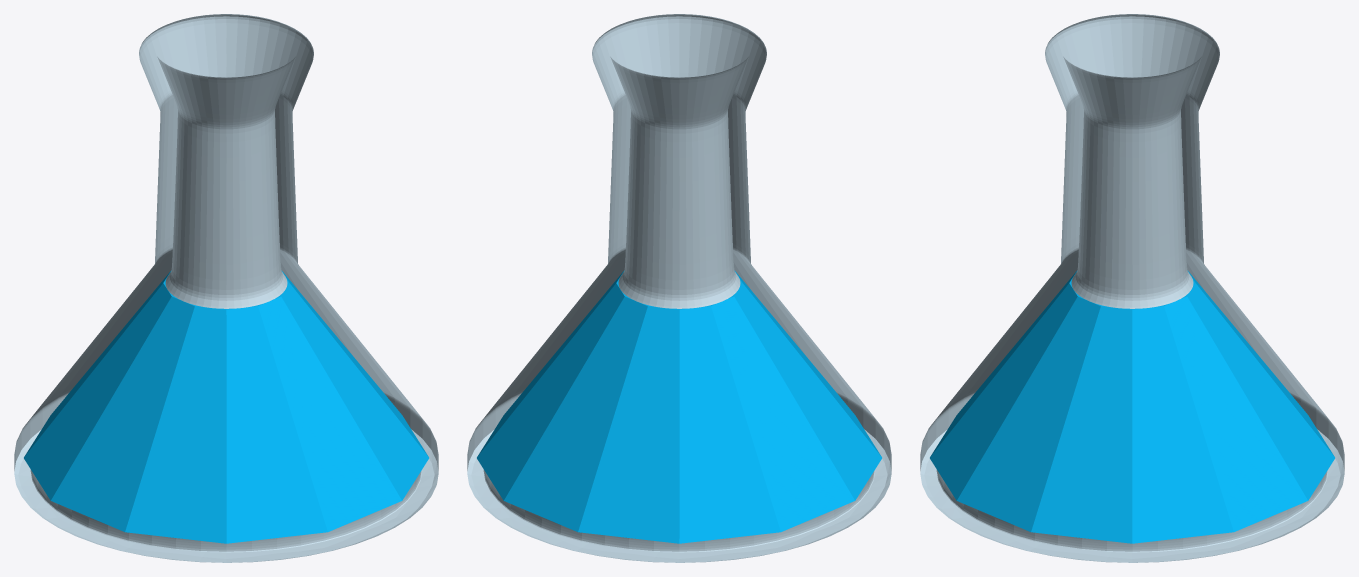
File: chemistry10.glb
The picture shows the model from 3 angles, left to right: view 1: azimuth 30°, elevation 25°; view 2: azimuth 150°, elevation 25°; view 3: azimuth 270°, elevation 25°; orthographic projection.
Bounding box in the file's own units: 0.5078 × 0.5704 × 0.5078.
